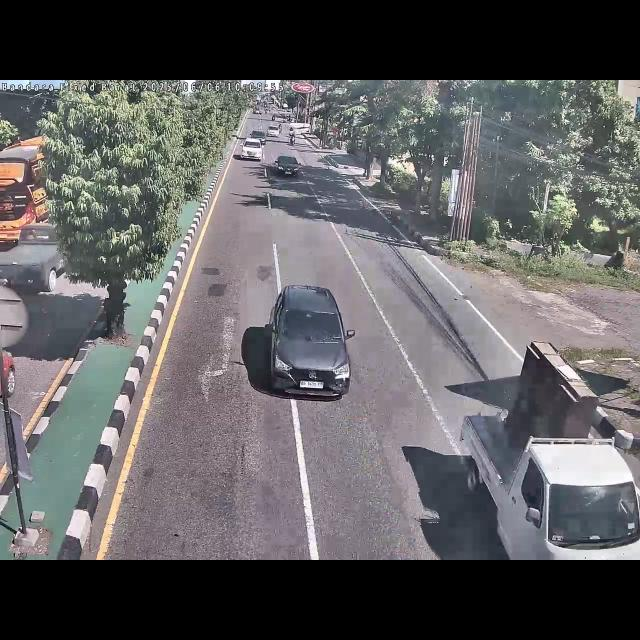Mobil: (459, 336, 640, 560), (266, 282, 356, 404), (274, 153, 304, 180), (240, 137, 262, 161), (250, 130, 266, 146)
